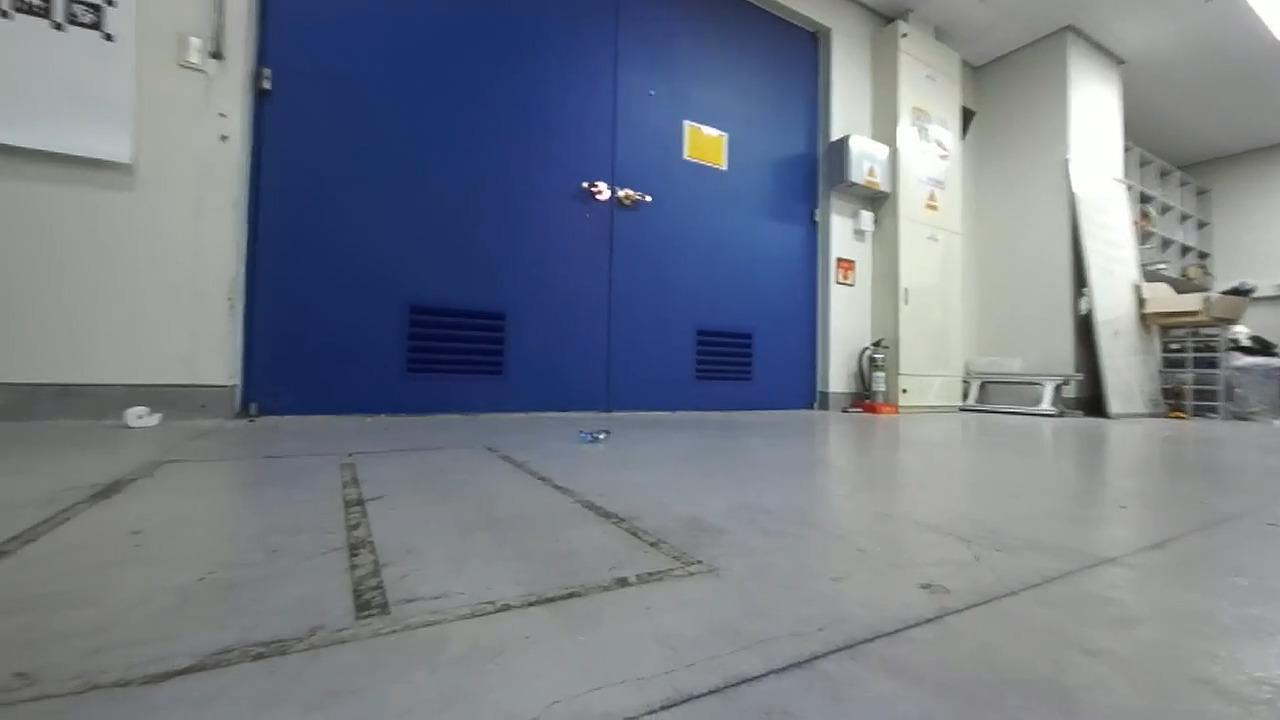crazyflie: (570, 422, 621, 448)
